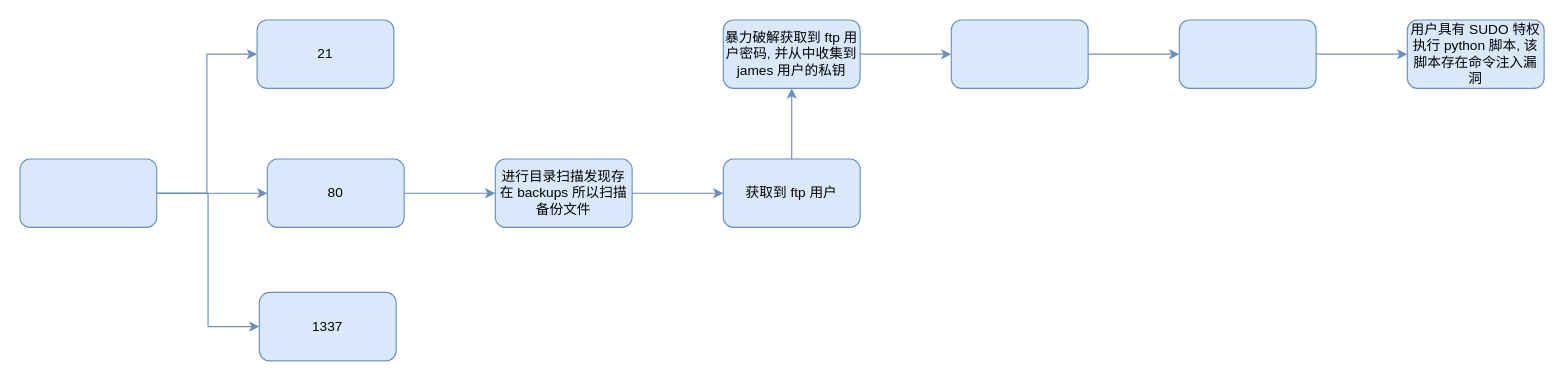
The diagram is 1564 pixels wide and 381 high, and some of its shapes have lost their labels. The centre of each missing label's shape, as x and y in pixels:
"端口扫描" goes at point (88, 192).
"解密得到用户 condor 的密码进行登陆" goes at point (1247, 53).
"进行 SSH 远程连接, 发现其存在一个用户 condor 的密码加密" goes at point (1019, 53).
